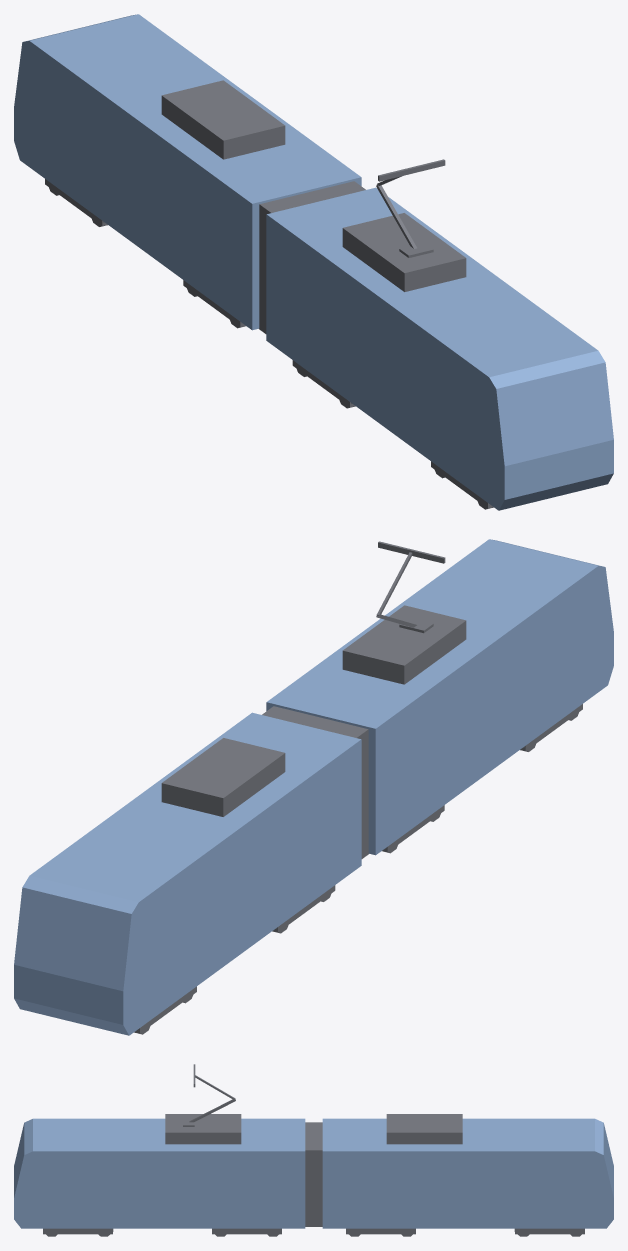
Rendered from tram.glb.
3 renders of one model, top to bottom at view 1: azimuth 30°, elevation 25°; view 2: azimuth 150°, elevation 25°; view 3: azimuth 270°, elevation 25°, orthographic. The views are drawn at different scales.
Parts seen in each view (by area): view 1: tram, equipment; view 2: tram, equipment; view 3: tram, equipment.
Boxes of the visible parts, <box> form: tram: <box>14,14,613,510</box>; equipment: <box>45,80,493,509</box>; tram: <box>14,539,613,1035</box>; equipment: <box>134,541,582,1034</box>; tram: <box>14,1118,613,1228</box>; equipment: <box>43,1064,584,1236</box>.
Bounding box in the file's own units: 2.65 × 5.62 × 20.6.
